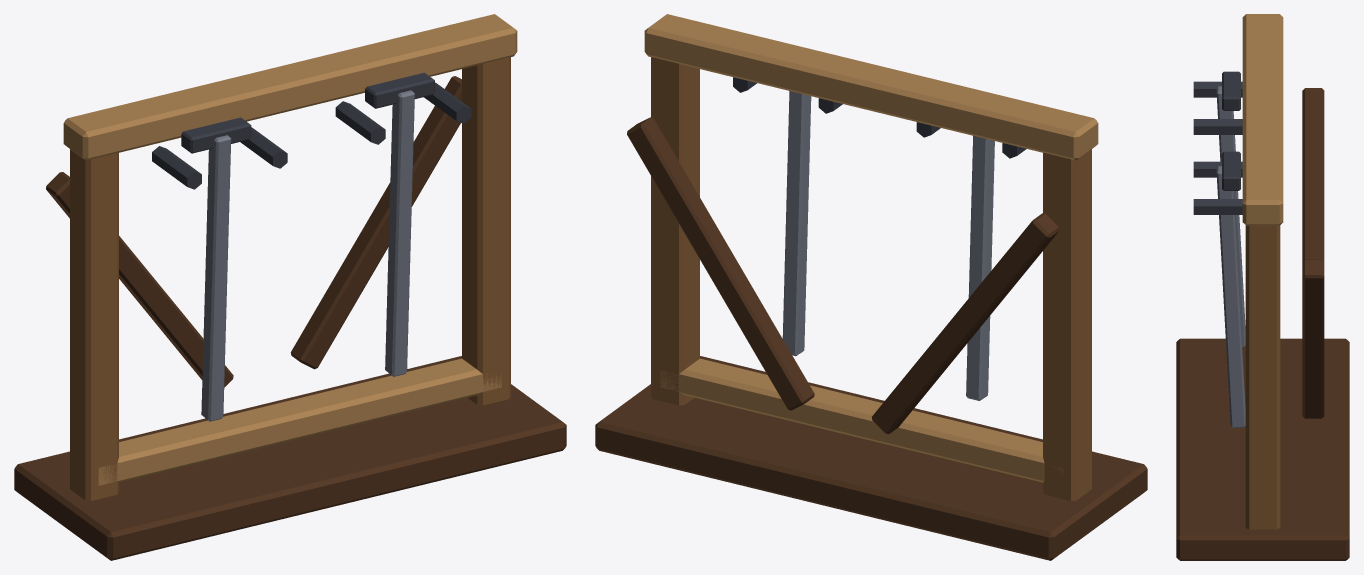
Rendered from rack.fbx.
The picture shows the model from 3 angles, left to right: view 1: azimuth 30°, elevation 25°; view 2: azimuth 150°, elevation 25°; view 3: azimuth 270°, elevation 25°; orthographic projection. The views are drawn at different scales.
Visible parts, largest first — view 1: rack; view 2: rack; view 3: rack.
Part boxes in pixels (left/top/right/bottom): rack: left=14, top=14, right=566, bottom=560; rack: left=595, top=14, right=1147, bottom=560; rack: left=1176, top=14, right=1349, bottom=560.
Size of the model in its own units: 150 by 125 by 55.
